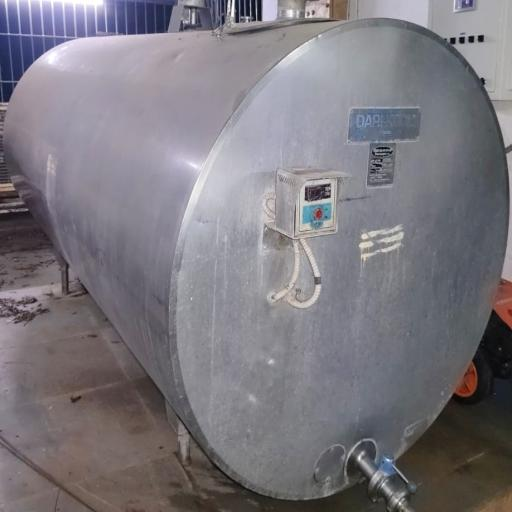silo: (2, 14, 510, 504)
